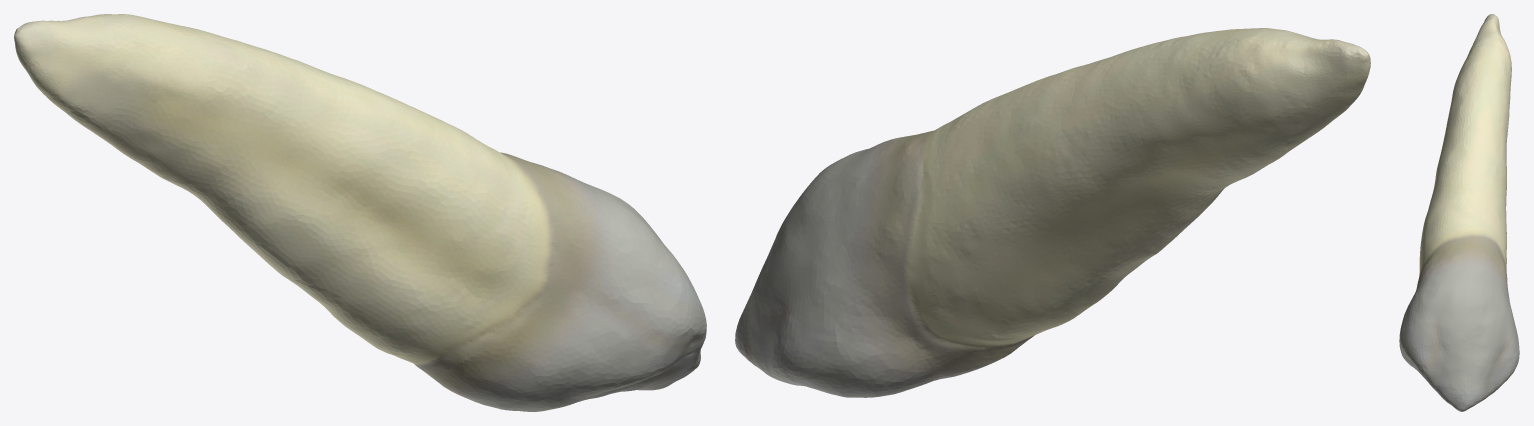
The picture shows the model from 3 angles, left to right: view 1: azimuth 30°, elevation 25°; view 2: azimuth 150°, elevation 25°; view 3: azimuth 270°, elevation 25°; orthographic projection. The views are drawn at different scales.
Visible parts, largest first — view 1: 3MFMeshParent_0; view 2: 3MFMeshParent_0; view 3: 3MFMeshParent_0.
Boxes of the visible parts, left/top/right/bottom form: 3MFMeshParent_0: left=14, top=14, right=706, bottom=411; 3MFMeshParent_0: left=735, top=28, right=1370, bottom=397; 3MFMeshParent_0: left=1399, top=14, right=1519, bottom=411.
Size of the model in its own units: 0.512 by 0.3664 by 0.1621.
Materials: 1 (1 with a texture image).
